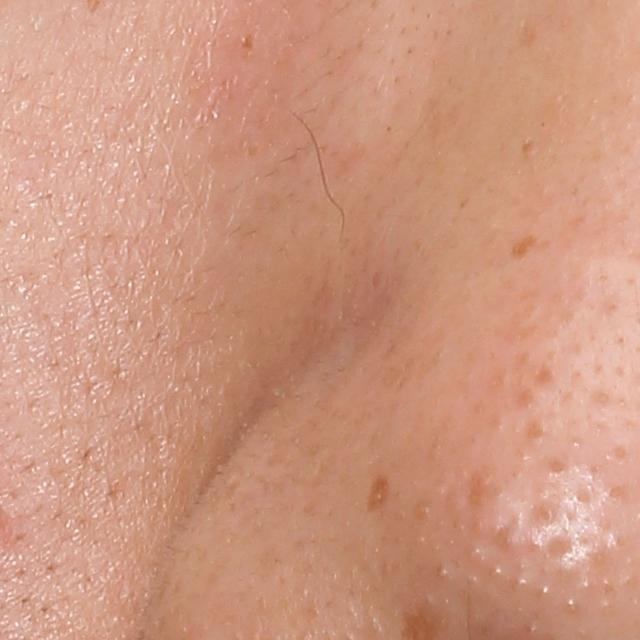melasma: (366, 467, 393, 514), (508, 231, 539, 269)
